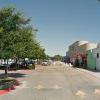Tree: (1, 1, 60, 66)
